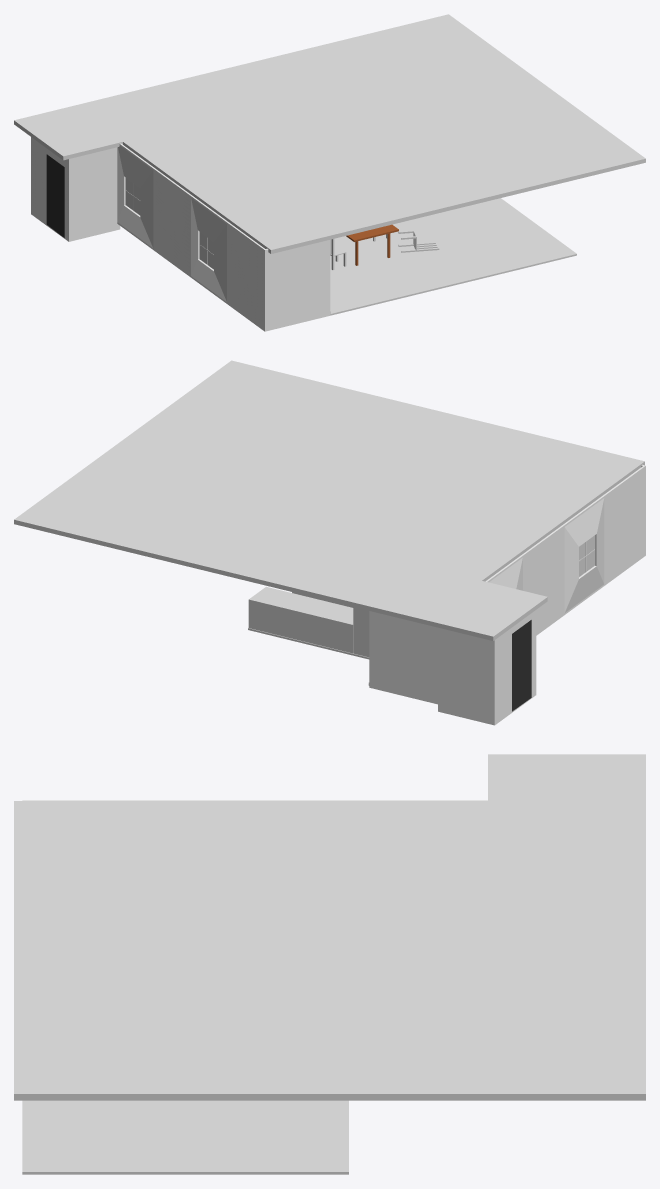
File: main.glb
The picture shows the model from 3 angles, top to bottom: view 1: azimuth 30°, elevation 25°; view 2: azimuth 150°, elevation 25°; view 3: azimuth 270°, elevation 25°; orthographic projection. The views are drawn at different scales.
Parts seen in each view (by area): view 1: 立方体.008, 廊下, 間取り, 玄関のドア, 机; view 2: 立方体.008, 廊下, 立方体, 玄関のドア, 立方体.002; view 3: 立方体.008, 間取り.
Part boxes in pixels (left/top/right/bottom): 立方体.008: left=14, top=14, right=645, bottom=253; 廊下: left=31, top=137, right=330, bottom=331; 間取り: left=330, top=198, right=576, bottom=315; 玄関のドア: left=46, top=154, right=64, bottom=237; 机: left=346, top=224, right=398, bottom=265; 立方体.008: left=14, top=360, right=644, bottom=640; 廊下: left=368, top=464, right=645, bottom=725; 立方体: left=248, top=586, right=353, bottom=653; 玄関のドア: left=512, top=620, right=531, bottom=711; 立方体.002: left=353, top=607, right=369, bottom=657; 立方体.008: left=14, top=754, right=645, bottom=1100; 間取り: left=22, top=1100, right=348, bottom=1174.
Bounding box in the file's own units: 13.94 × 2.73 × 10.96.
25 materials, 3 textured.
